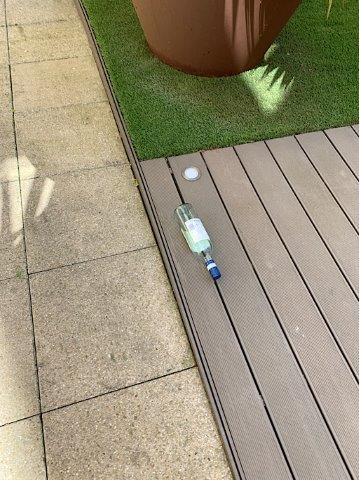botolkaca: (174, 203, 221, 281)
